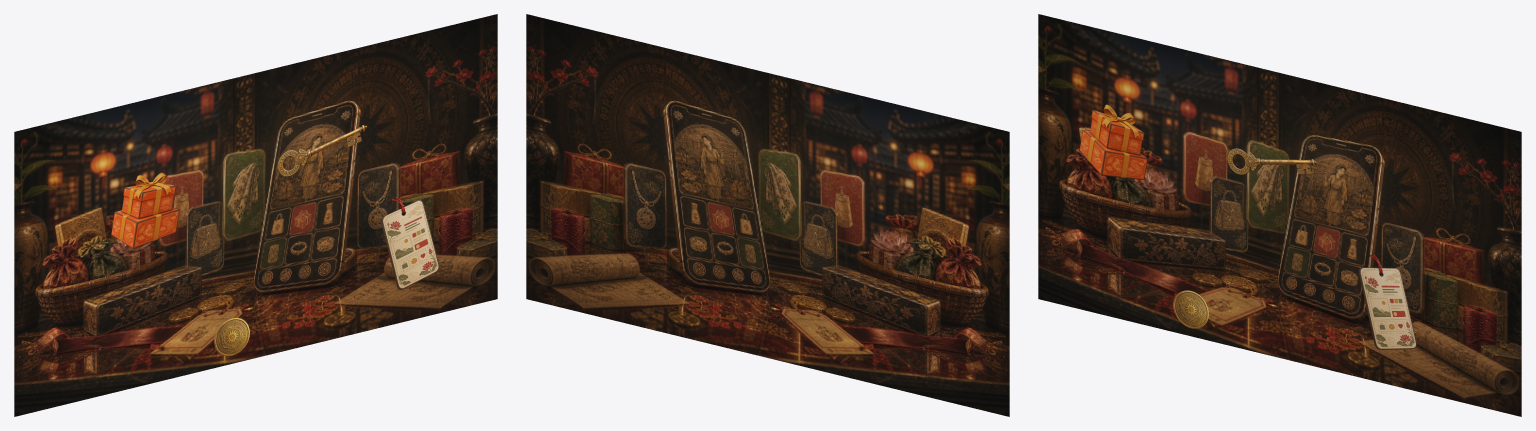
Rendered from ShopApp_bg_diffuse-optimized-726d5f2f0b.glb.
3 renders of one model, left to right at view 1: azimuth 30°, elevation 25°; view 2: azimuth 150°, elevation 25°; view 3: azimuth 330°, elevation 25°, orthographic.
Parts seen in each view (by area): view 1: Vietfolk_shopapp_background, Vietfolk_shopapp_giftbox, Vietfolk_shopapp_tag, Vietfolk_shopapp_coin, Vietfolk_shopapp_key; view 2: Vietfolk_shopapp_background; view 3: Vietfolk_shopapp_background, Vietfolk_shopapp_giftbox, Vietfolk_shopapp_tag, Vietfolk_shopapp_coin, Vietfolk_shopapp_key.
Boxes of the visible parts, left/top/right/bottom form: Vietfolk_shopapp_background: left=14, top=14, right=497, bottom=416; Vietfolk_shopapp_giftbox: left=111, top=172, right=179, bottom=248; Vietfolk_shopapp_tag: left=381, top=197, right=439, bottom=289; Vietfolk_shopapp_coin: left=214, top=318, right=249, bottom=356; Vietfolk_shopapp_key: left=278, top=125, right=366, bottom=176; Vietfolk_shopapp_background: left=526, top=14, right=1009, bottom=416; Vietfolk_shopapp_background: left=1038, top=14, right=1521, bottom=416; Vietfolk_shopapp_giftbox: left=1079, top=104, right=1147, bottom=179; Vietfolk_shopapp_tag: left=1358, top=254, right=1416, bottom=349; Vietfolk_shopapp_coin: left=1173, top=290, right=1208, bottom=328; Vietfolk_shopapp_key: left=1227, top=148, right=1316, bottom=174.
Bounding box in the file's own units: 3.6 × 2.03 × 0.48.
5 materials, 5 textured.
